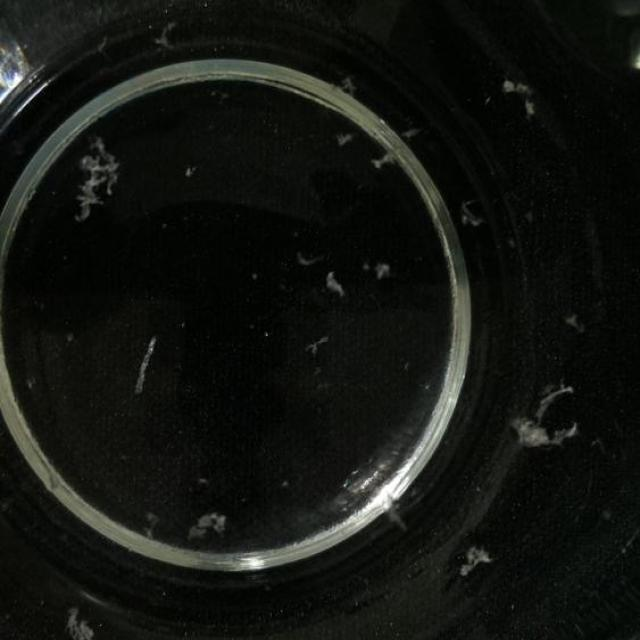fiber: (516, 380, 581, 454), (71, 136, 126, 223), (176, 506, 248, 542), (455, 541, 501, 585), (502, 70, 542, 118), (459, 187, 491, 240), (131, 332, 160, 390), (148, 14, 182, 61), (65, 602, 102, 639), (550, 304, 590, 335), (368, 145, 402, 180), (320, 270, 348, 302), (306, 324, 332, 358), (295, 246, 323, 272), (336, 72, 362, 98), (330, 125, 352, 154), (372, 261, 398, 285), (400, 122, 418, 149), (222, 0, 262, 7)
